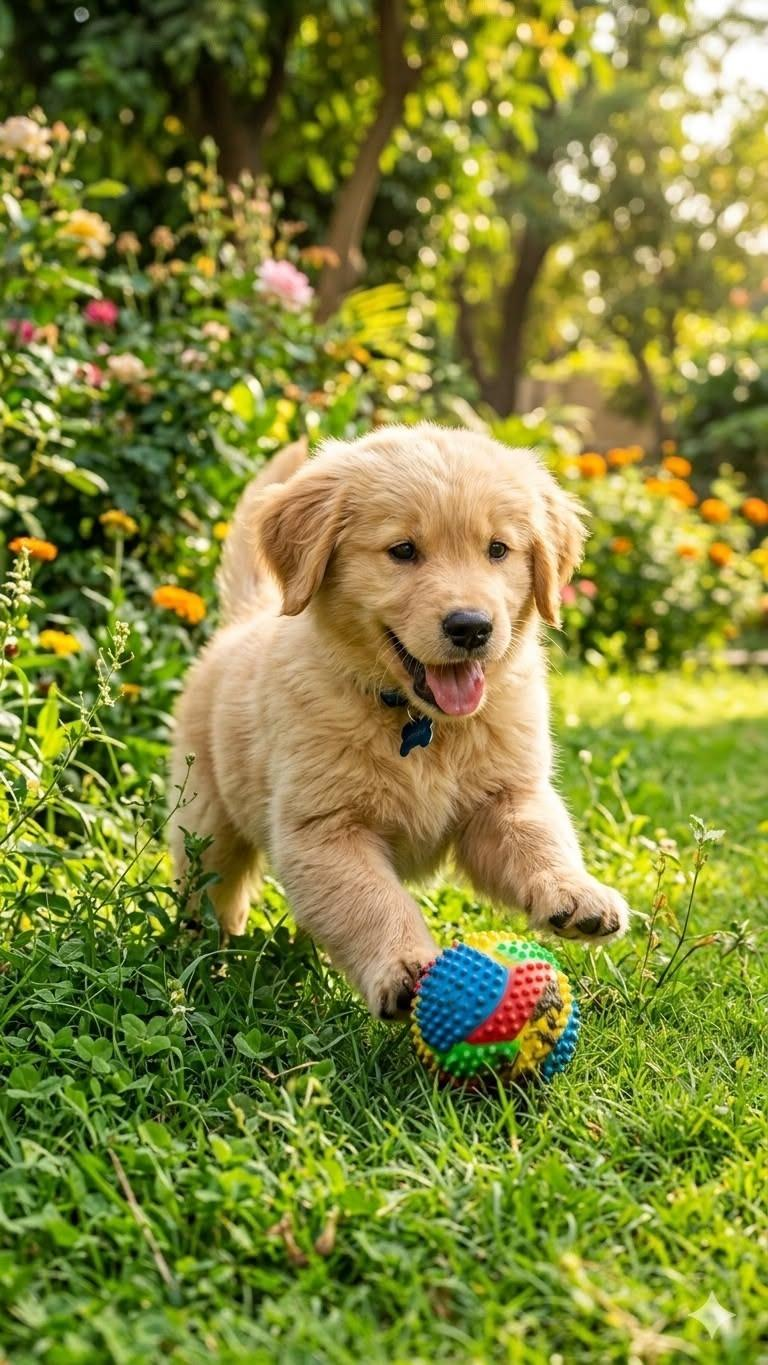puppy-dog: (161, 421, 631, 1024)
